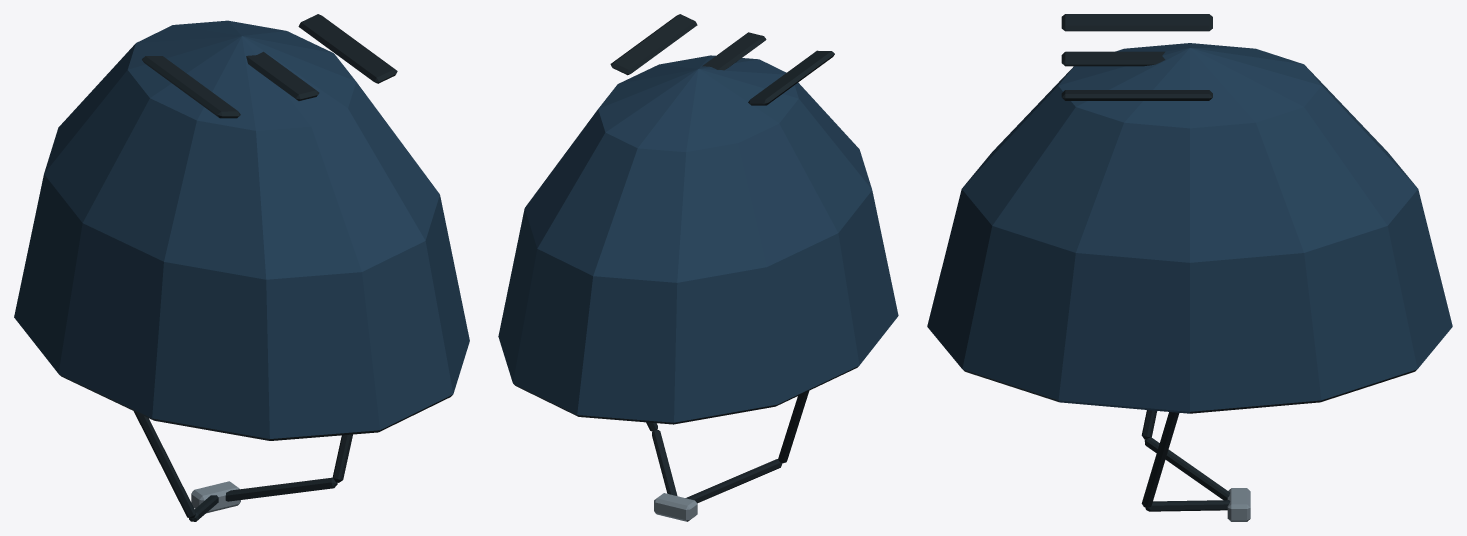
Rendered from b17_vented_bicycle_helmet.glb.
3 renders of one model, left to right at view 1: azimuth 30°, elevation 25°; view 2: azimuth 150°, elevation 25°; view 3: azimuth 270°, elevation 25°, orthographic. The views are drawn at different scales.
Visible parts, largest first — view 1: b17_vented_bicycle_helmet; view 2: b17_vented_bicycle_helmet; view 3: b17_vented_bicycle_helmet.
Boxes of the visible parts, x1,y1,x2,y2 form: b17_vented_bicycle_helmet: [14, 14, 469, 521]; b17_vented_bicycle_helmet: [498, 14, 898, 521]; b17_vented_bicycle_helmet: [927, 14, 1452, 521].
Size of the model in its own units: 0.2293 by 0.2925 by 0.2991.
